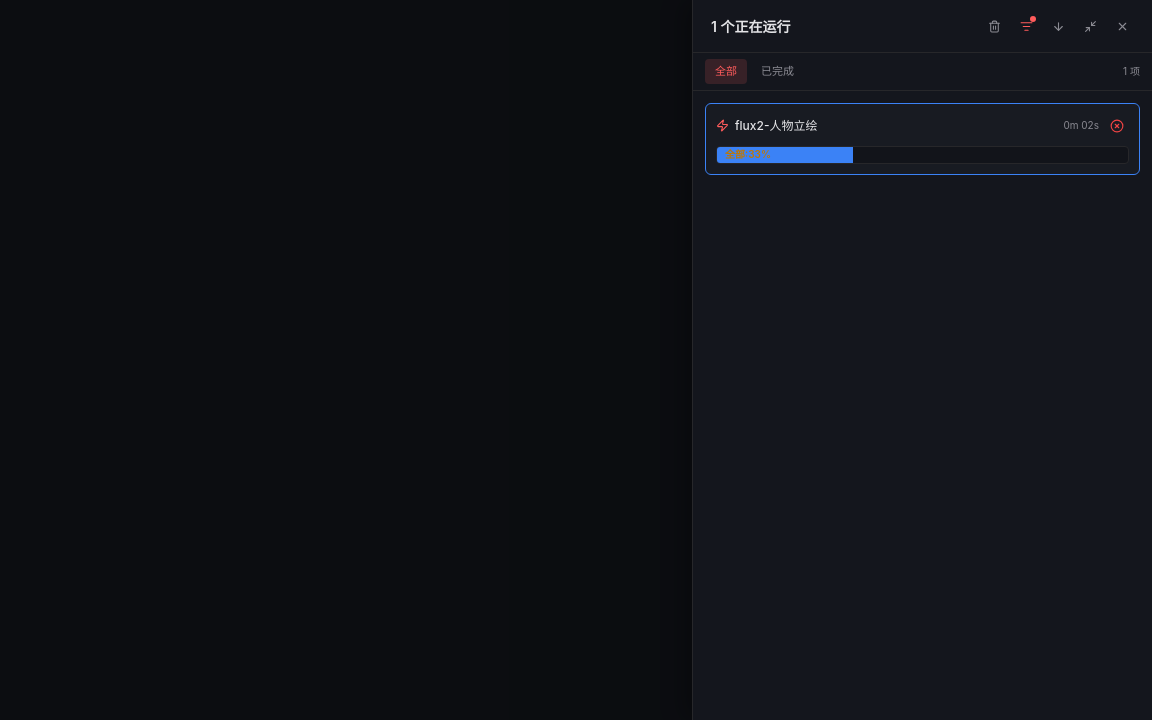
Test case: TaskPanel — ComfyUI 对齐(PR-5) › 筛选 popover「全选」按钮恢复所有状态
The width and height of the screenshot is (1152, 720).
Check: the text "tts-旁白" is not shown
Click the button named "筛选" at (1026, 26), box [1014, 14, 1038, 38]
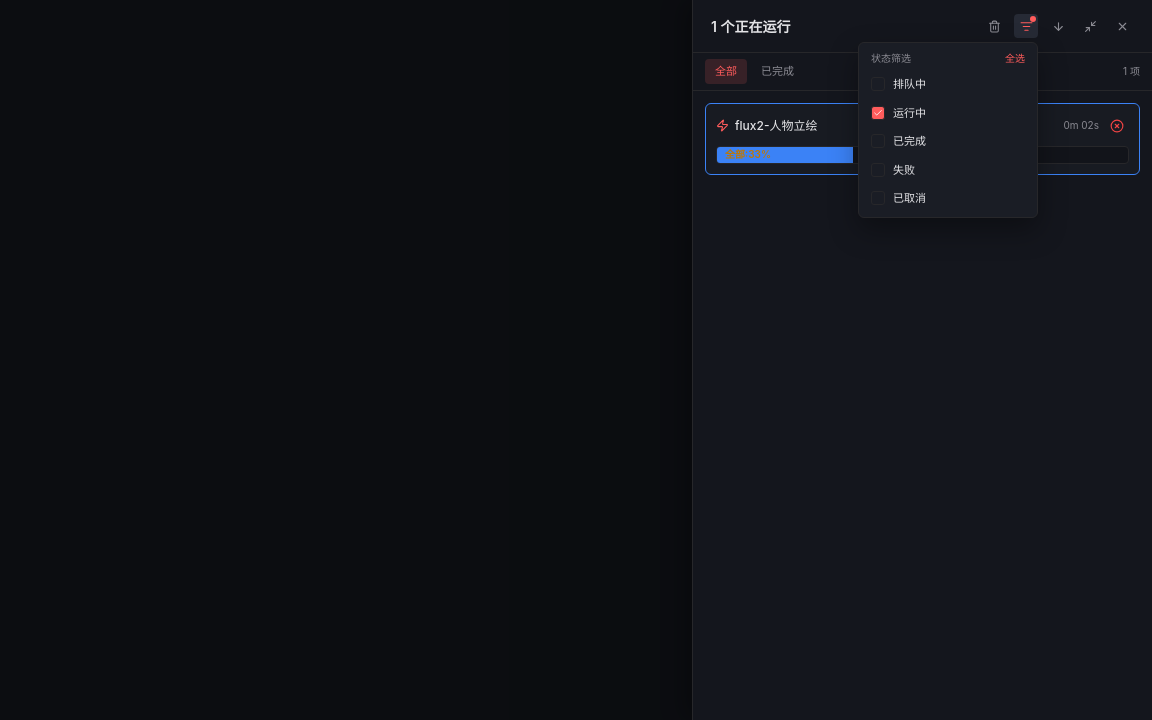
Click the button "全选" at (1015, 58), box [1005, 51, 1025, 66]
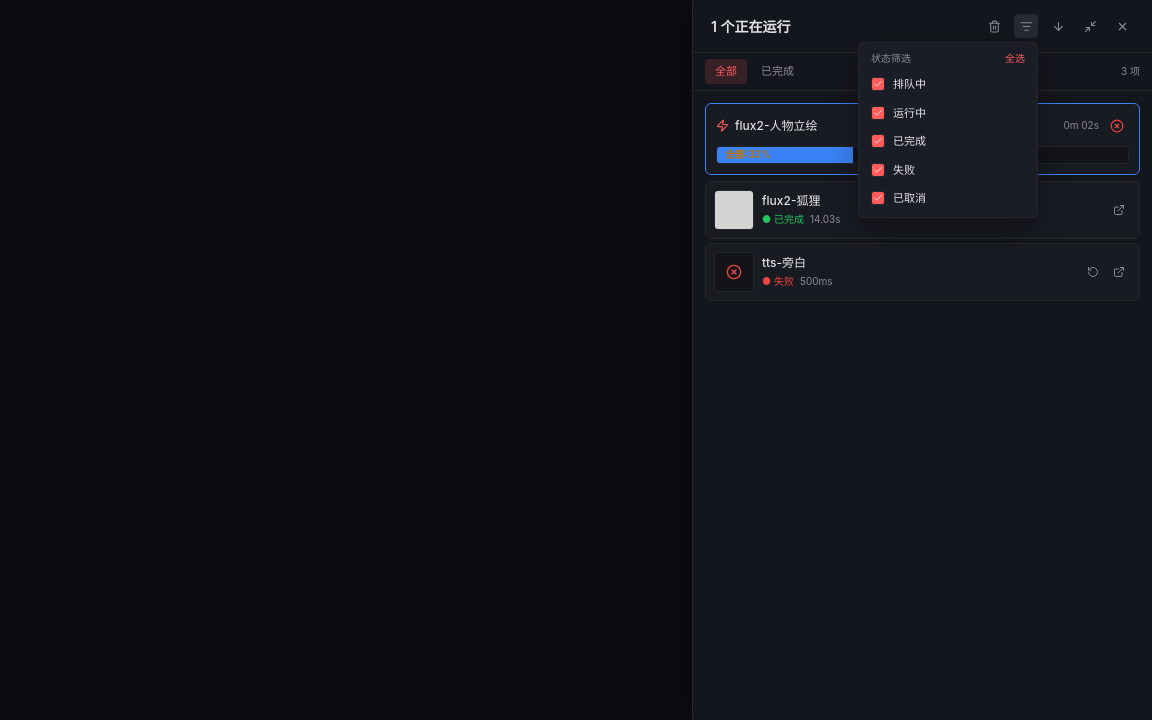
Check: the text "tts-旁白" is shown, box [762, 255, 806, 270]
Check: the text "flux2-狐狸" is shown, box [762, 193, 820, 208]
